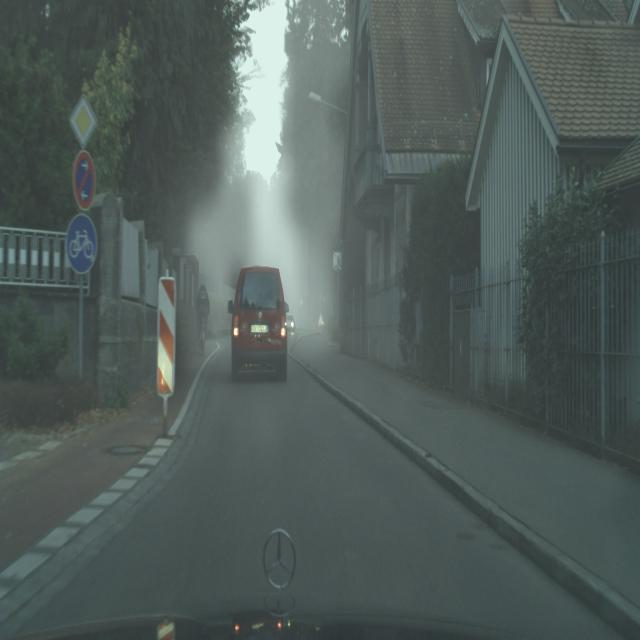bus: (196, 282, 210, 348)
person: (228, 265, 288, 382), (286, 312, 296, 332)
truck: (198, 313, 208, 355)
